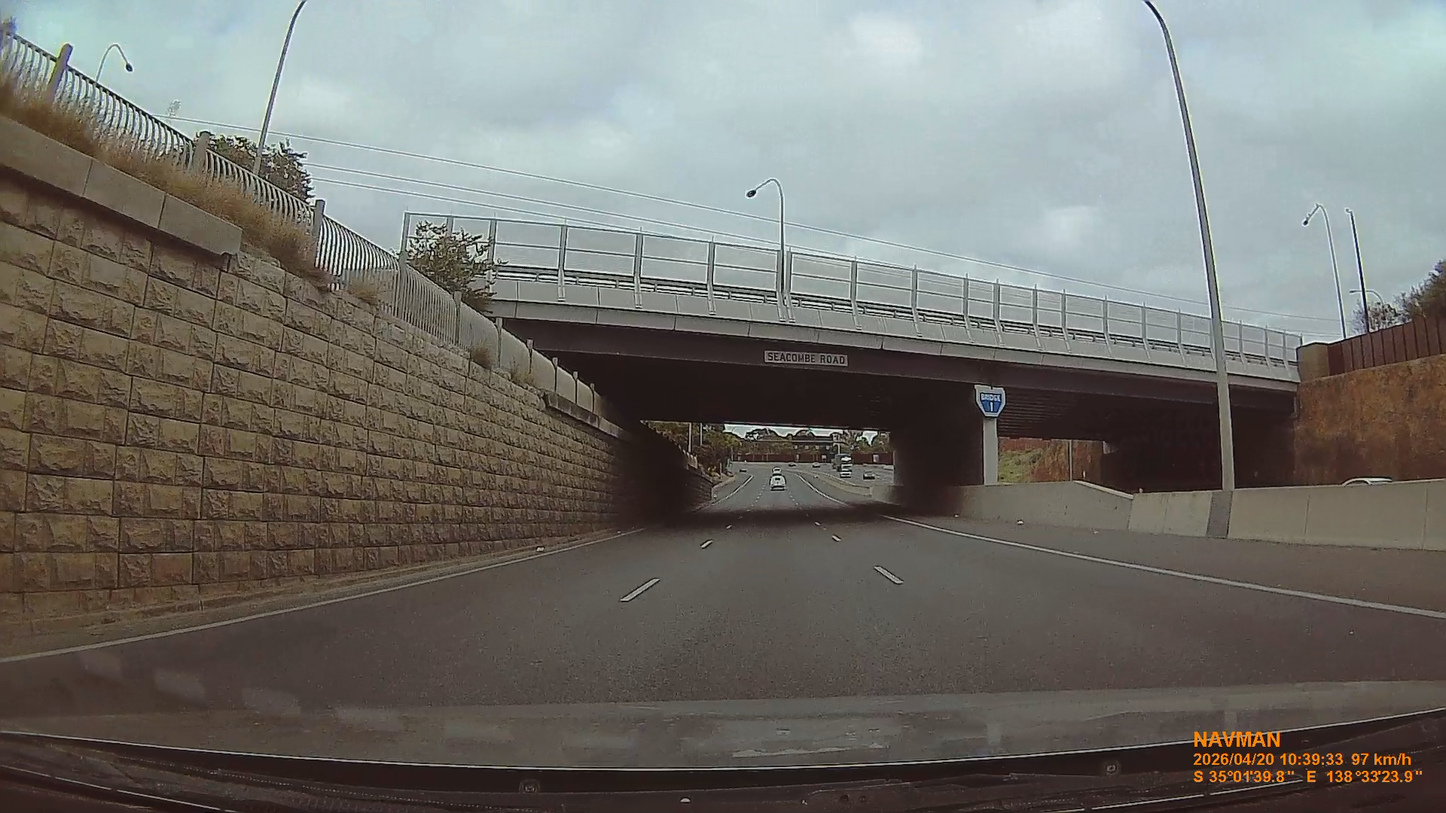road barriers: (952, 480, 1446, 552)
